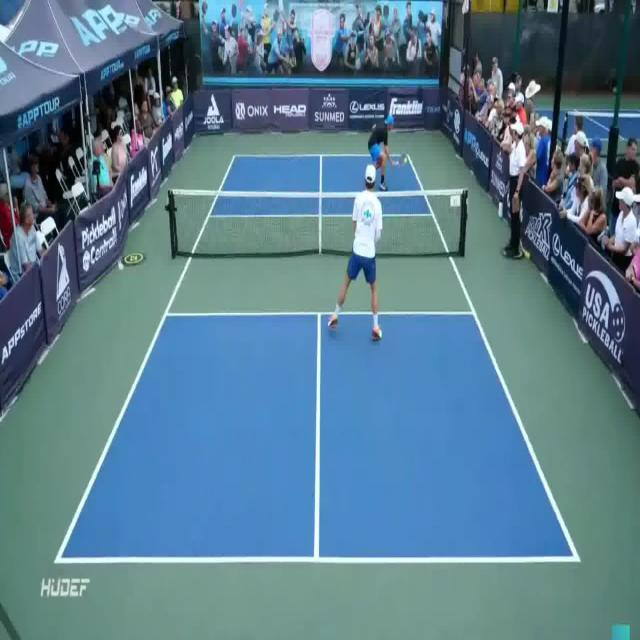Court: (54, 152, 579, 565)
ball: (401, 150, 414, 169)
